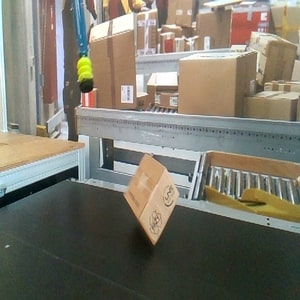box: (122, 153, 181, 247)
